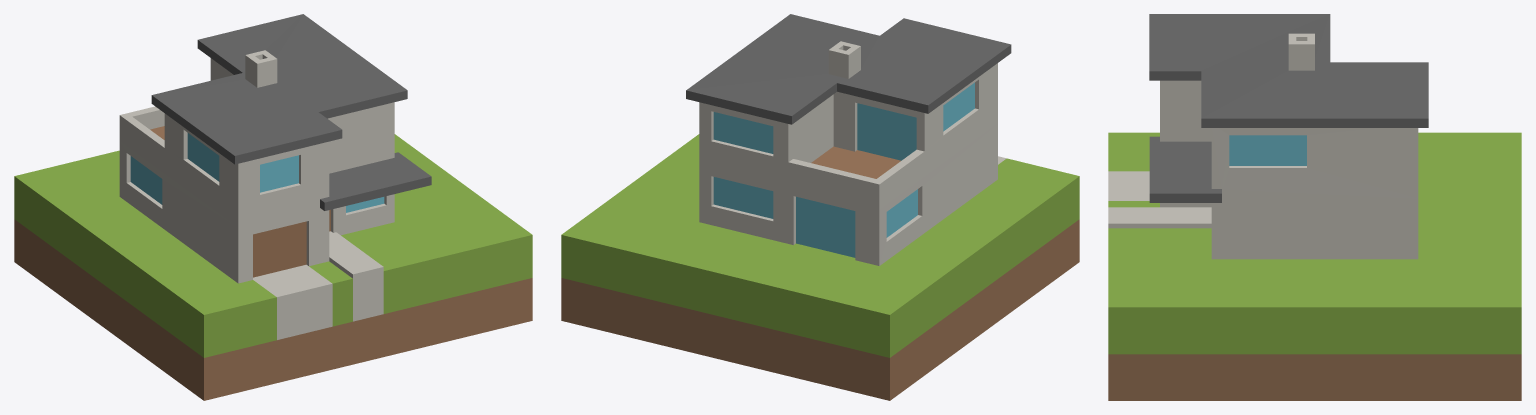
The model's file is house-modern.glb.
3 renders of one model, left to right at view 1: azimuth 30°, elevation 25°; view 2: azimuth 150°, elevation 25°; view 3: azimuth 270°, elevation 25°, orthographic. The views are drawn at different scales.
Parts seen in each view (by area): view 1: house-modern_Cube.037; view 2: house-modern_Cube.037; view 3: house-modern_Cube.037.
Part boxes in pixels (x1,y1,x2,y2): house-modern_Cube.037: (14, 14, 532, 400); house-modern_Cube.037: (561, 14, 1079, 400); house-modern_Cube.037: (1108, 14, 1521, 400).
Bounding box in the file's own units: 8 × 5.66 × 8.
1 material, 1 textured.
